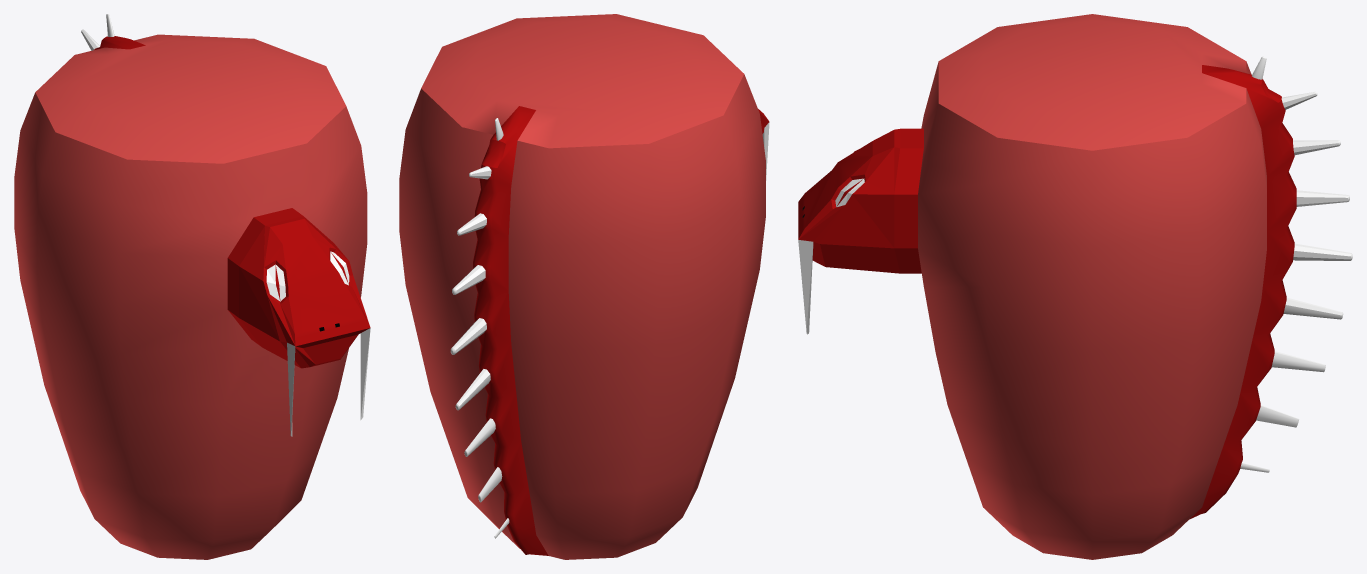
File: carneChupacabras.fbx
3 renders of one model, left to right at view 1: azimuth 30°, elevation 25°; view 2: azimuth 150°, elevation 25°; view 3: azimuth 270°, elevation 25°, orthographic. The views are drawn at different scales.
Visible parts, largest first — view 1: Cylinder002; view 2: Cylinder002; view 3: Cylinder002.
Boxes of the visible parts, x1=… form: Cylinder002: x1=14, y1=14, x2=370, y2=559; Cylinder002: x1=399, y1=14, x2=769, y2=559; Cylinder002: x1=798, y1=14, x2=1352, y2=559.
Bounding box in the file's own units: 0.621 × 0.8728 × 0.938.
